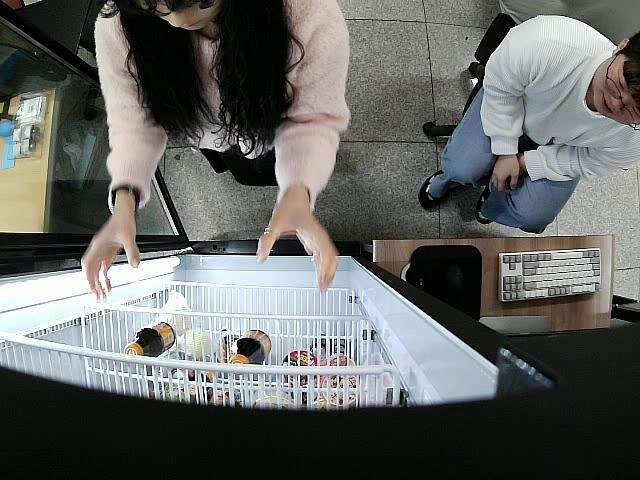00_hand: (256, 221, 339, 294), (79, 226, 141, 302), (489, 154, 520, 193)
